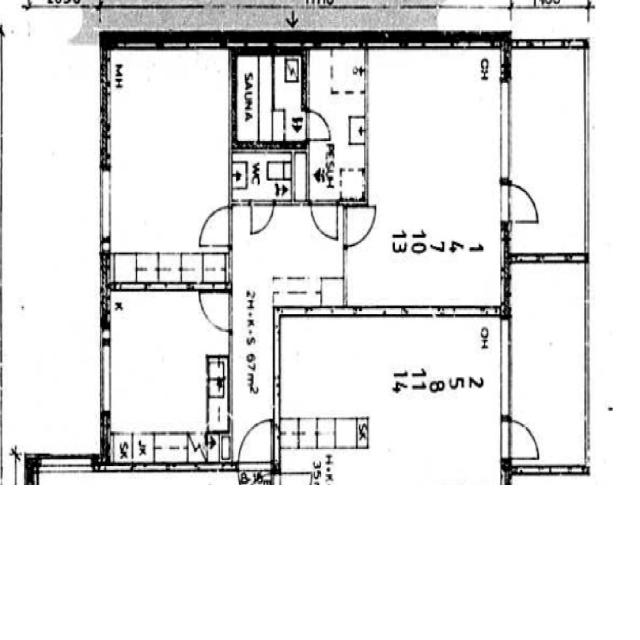door: (302, 69, 355, 166), (237, 416, 277, 475), (495, 414, 543, 462), (500, 178, 543, 225), (338, 202, 381, 248), (197, 203, 234, 251), (195, 289, 236, 332), (308, 196, 341, 244), (300, 104, 334, 143), (247, 198, 277, 240)
window: (494, 77, 516, 184), (94, 154, 117, 252), (495, 320, 516, 420), (96, 330, 114, 418)
zone: (358, 44, 508, 320), (275, 311, 508, 466), (101, 45, 232, 289), (102, 286, 230, 463), (506, 254, 589, 467), (306, 43, 370, 197), (231, 44, 306, 148), (228, 144, 307, 203), (302, 82, 349, 161)
